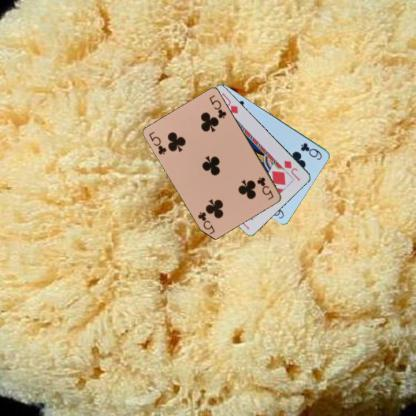5c: (147, 129, 168, 156), (254, 175, 275, 201)
6c: (298, 140, 324, 161)
Jd: (282, 158, 302, 182)
